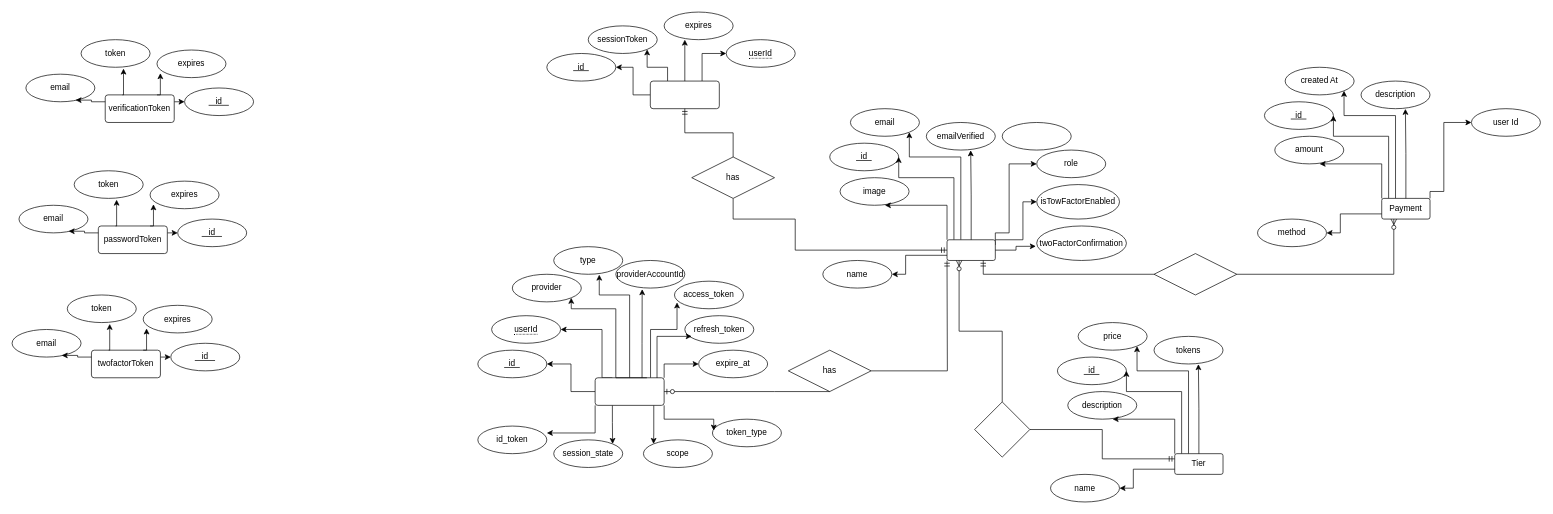
This 1553x514 diagram has some shape labels left out. The shapes that lost their labels are listed below. From the top down, each one's centre as x and y in pixels, then its label:
At point (684, 94): "session".
At point (1036, 136): "password".
At point (970, 249): "User".
At point (1195, 274): "makes".
At point (629, 391): "Account".
At point (1002, 429): "subscribe".
